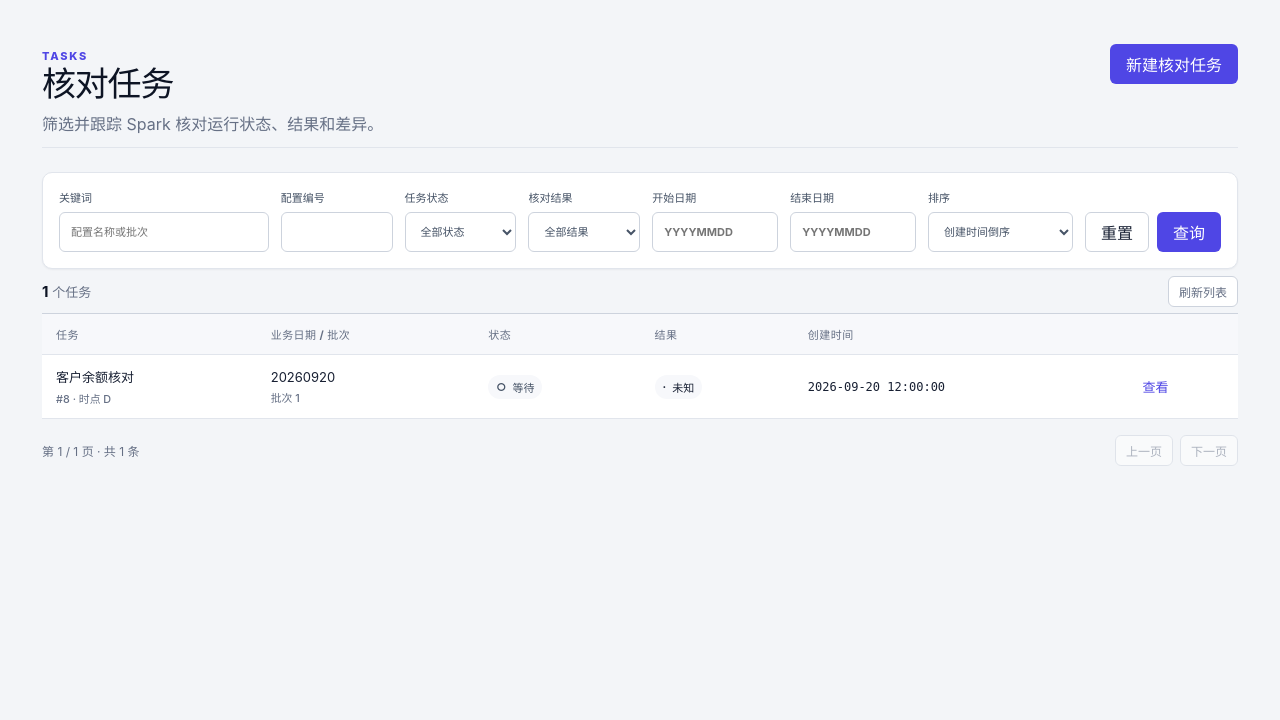
Test case: opens the task drawer and validates required values
The image size is (1280, 720).
Click the button "新建核对任务". click: (1174, 64)
box: [1110,44,1238,84]
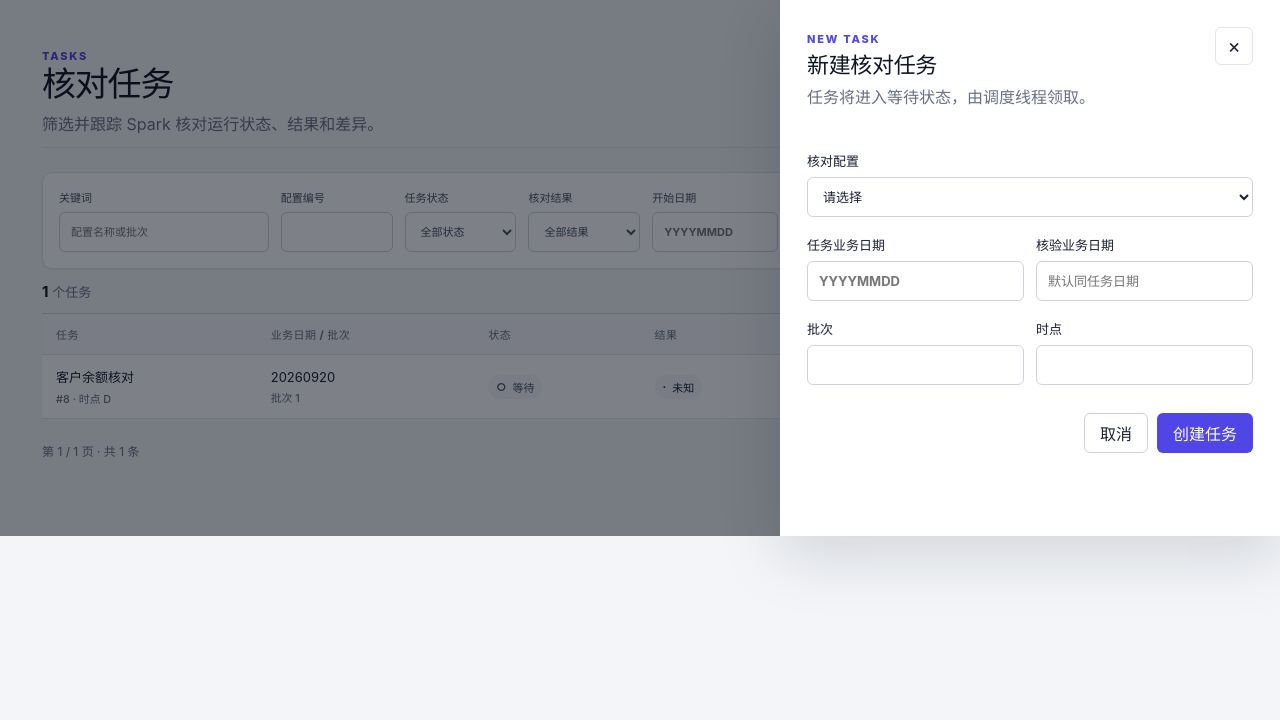
Expected: the dialog "新建核对任务" is shown, [780,0,1279,536]
Click the button "创建任务". click: (1205, 433)
box: [1157,413,1253,453]
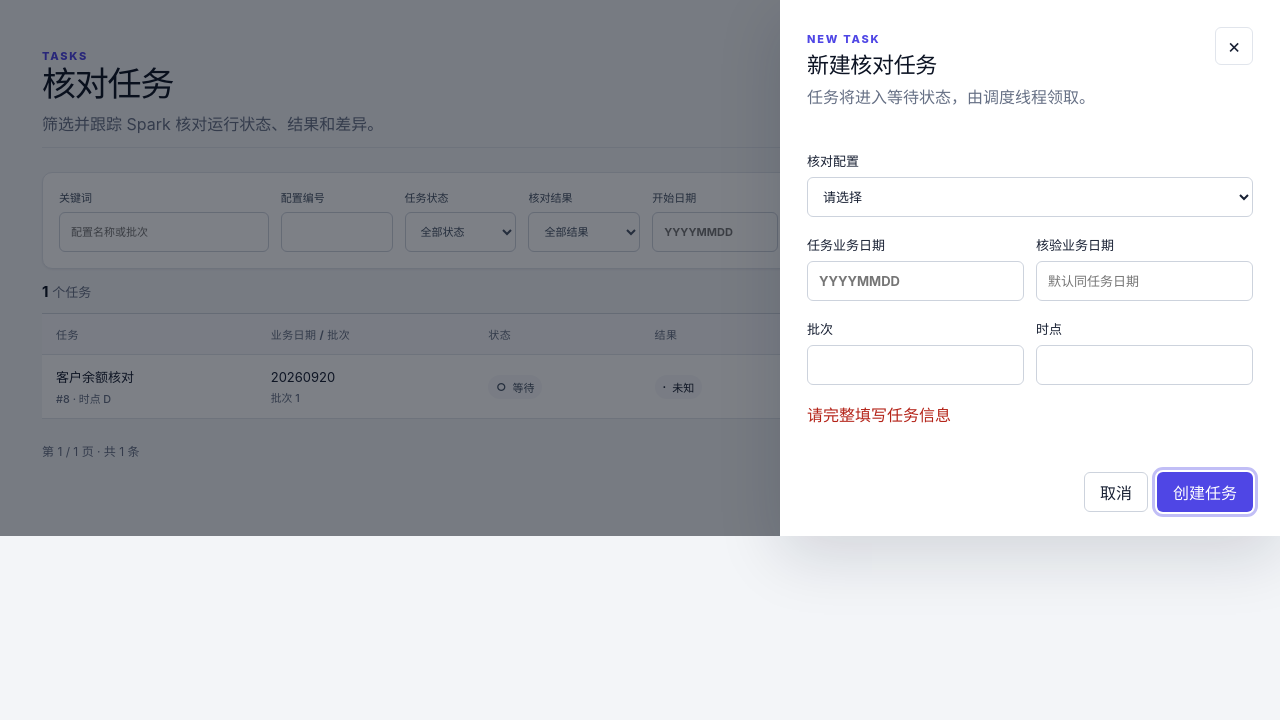
Expected: the text "请完整填写任务信息" is shown, [807,405,951,425]
